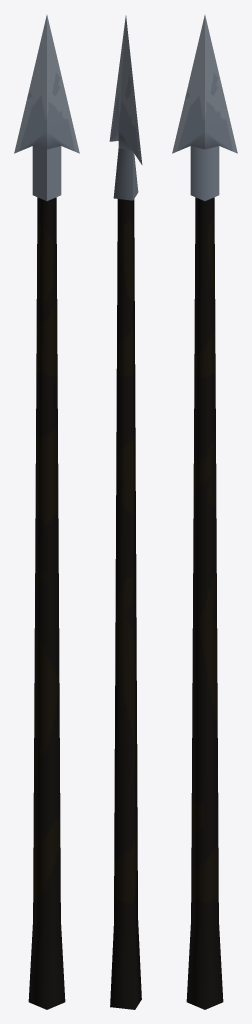
The model's file is Spear1.fbx.
3 views of the same model, side by side, from view 1: azimuth 90°, elevation 25°; view 2: azimuth 210°, elevation 25°; view 3: azimuth 270°, elevation 25° (orthographic).
Parts seen in each view (by area): view 1: Spear1; view 2: Spear1; view 3: Spear1.
Boxes of the visible parts, x1=… form: Spear1: x1=14, y1=15, x2=79, y2=1009; Spear1: x1=109, y1=15, x2=142, y2=1009; Spear1: x1=172, y1=15, x2=237, y2=1009.
Size of the model in its own units: 7.6 by 226 by 13.63.
